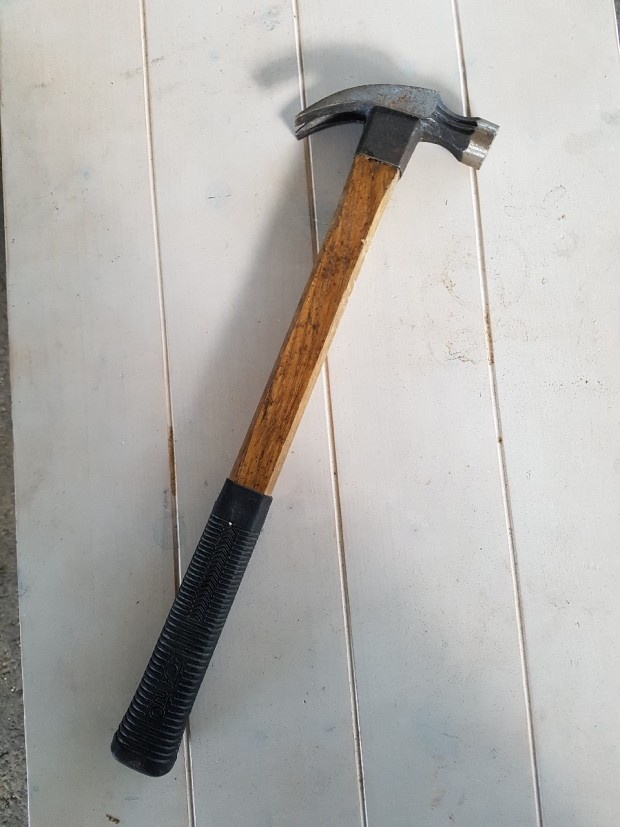hammer: (74, 44, 520, 780)
